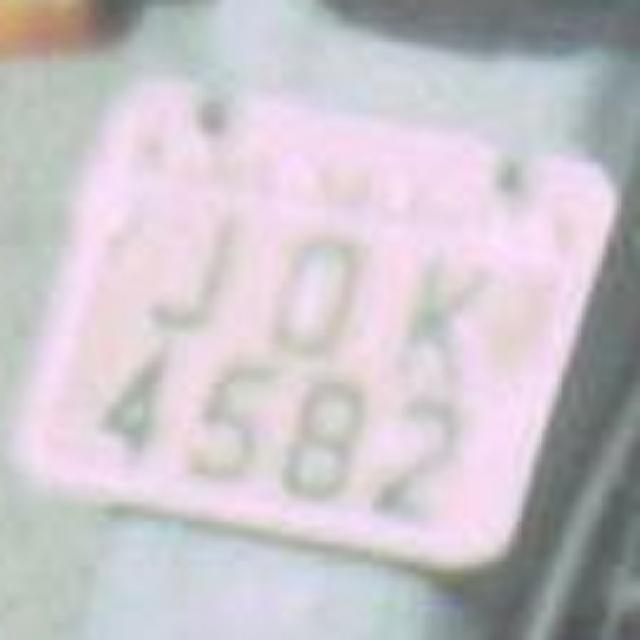2: (352, 368, 488, 532)
4: (85, 328, 180, 484)
5: (168, 336, 284, 496)
8: (260, 344, 395, 516)
J: (112, 180, 256, 348)
